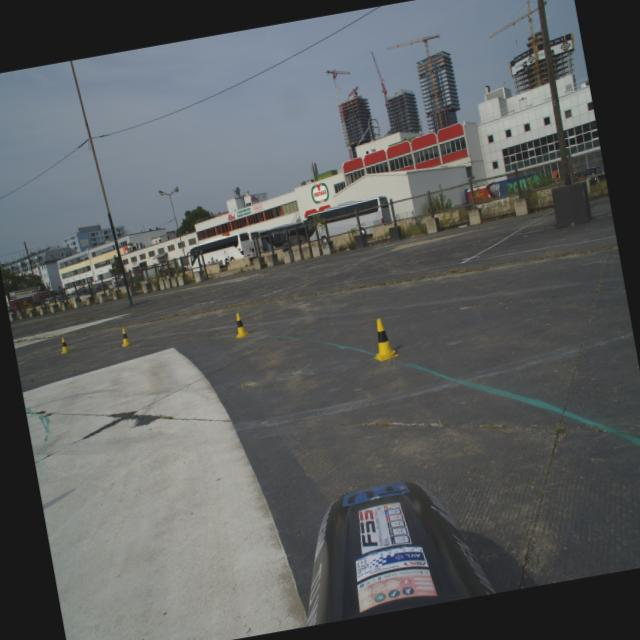yellow_cone: (367, 316, 398, 362), (230, 311, 250, 338), (118, 326, 132, 346), (58, 336, 72, 354)
